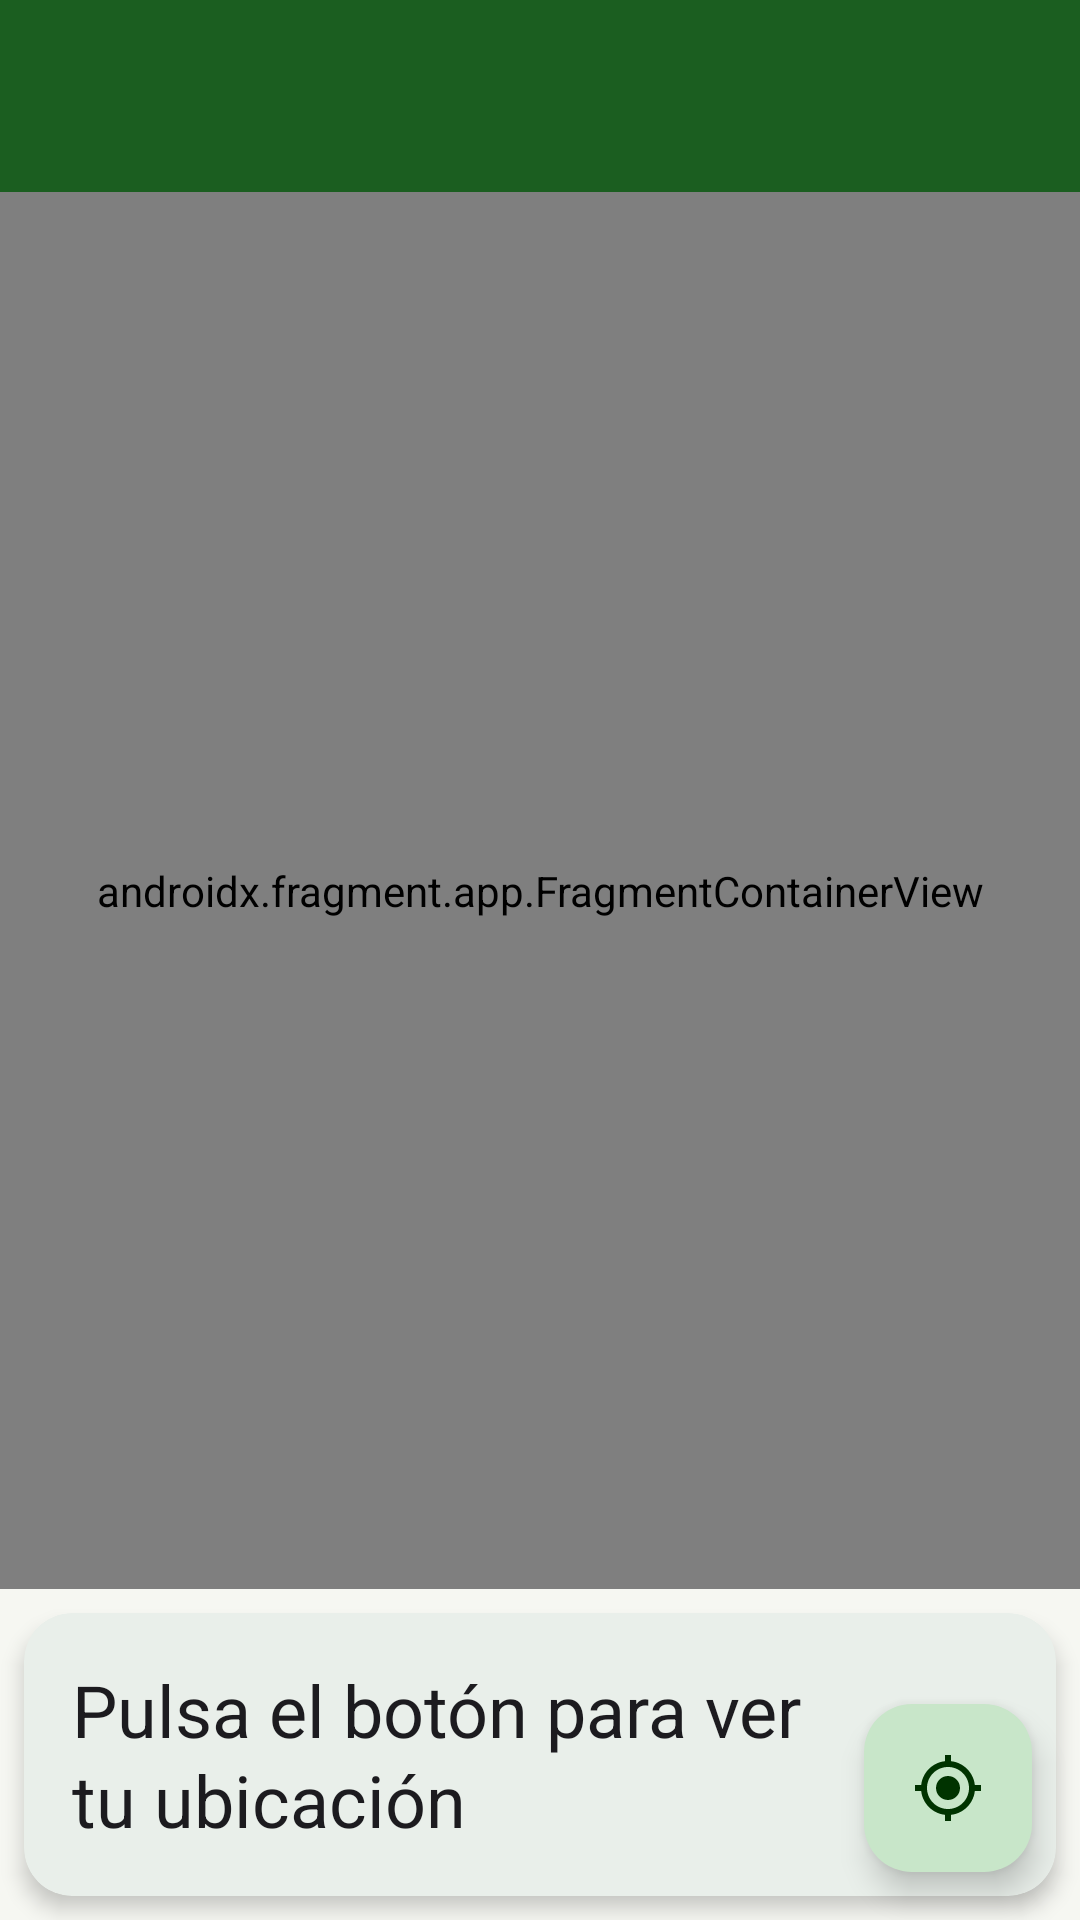

Where icons sit on this 1080*1920 app screen, as (x1=x1, y1=y1, x2=x2, y2=y2):
Mi ubicación: (x1=864, y1=1704, x2=1032, y2=1872)
